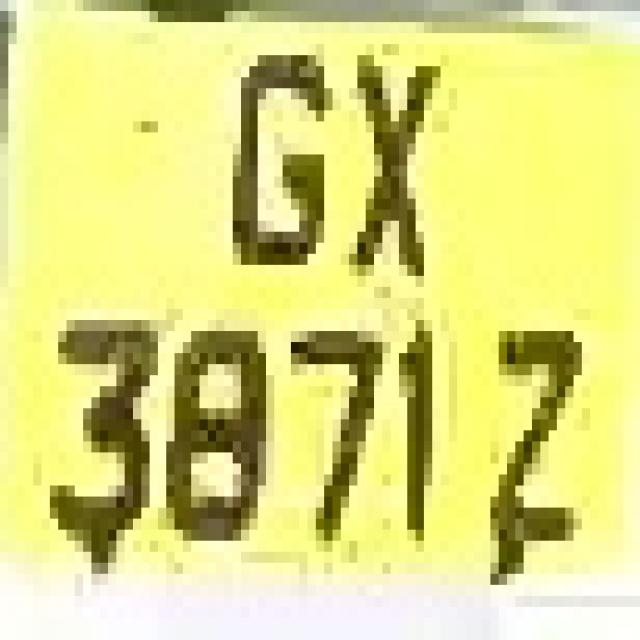1: (382, 265, 449, 563)
3: (16, 265, 182, 552)
7: (249, 287, 374, 541)
8: (150, 287, 274, 563)
G: (216, 22, 324, 342)
X: (316, 11, 449, 309)
Z: (482, 276, 590, 563)
